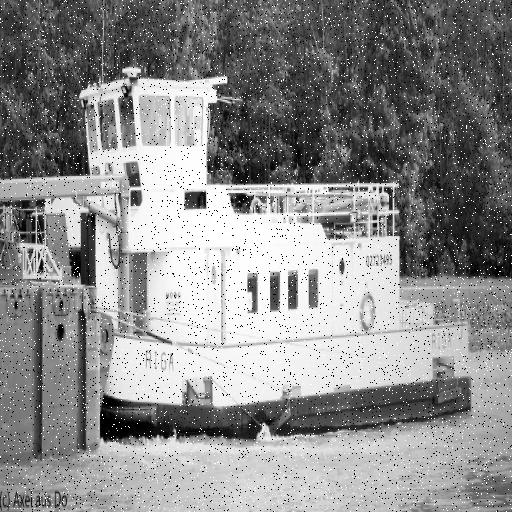tugboat: (55, 61, 478, 453)
